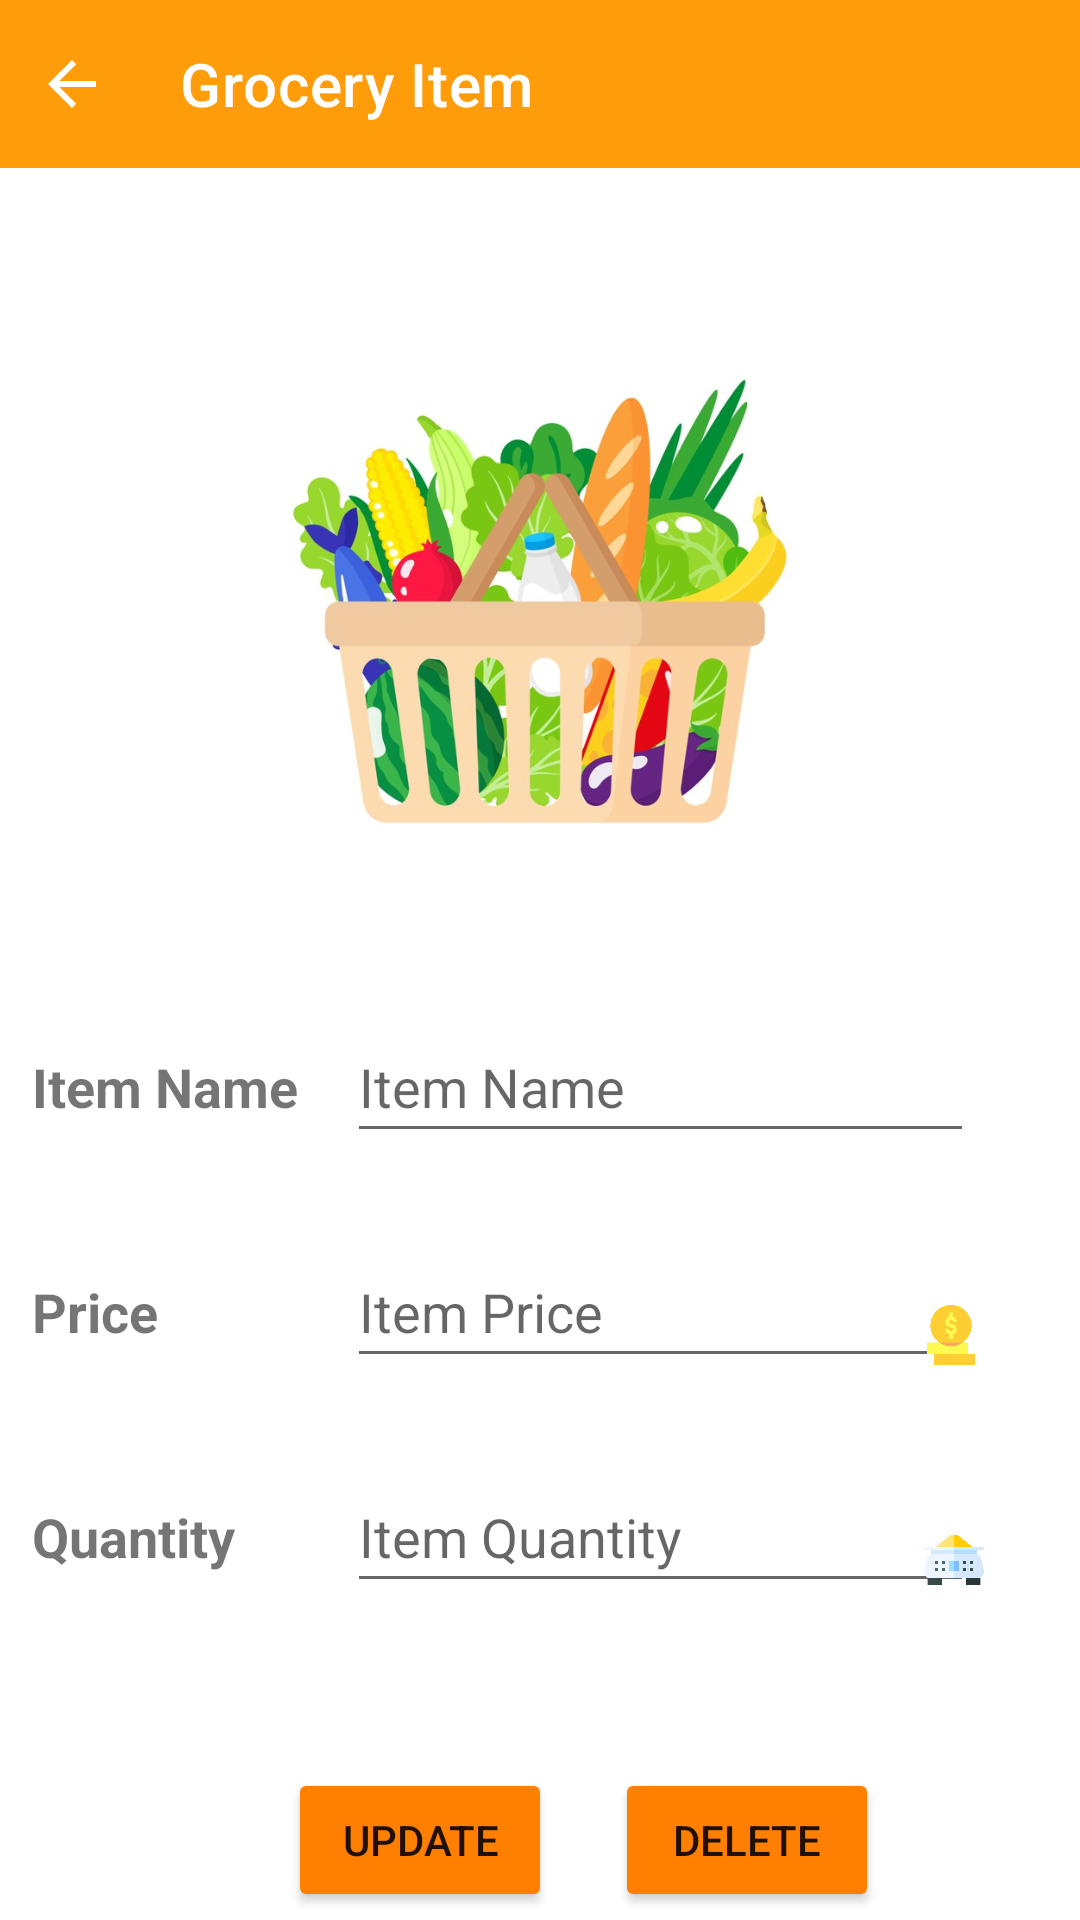

Where to tap for icons on this 1080 × 1920 app screen, as [x,y]:
coins: [948,1335]
scale: [954,1560]
